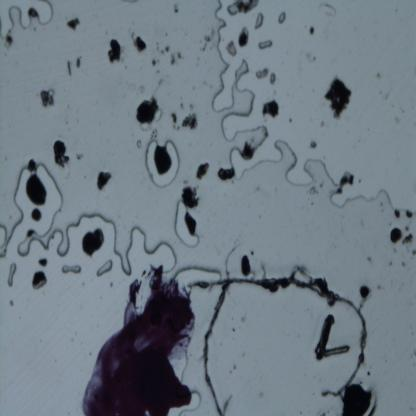Air bubble: (2, 168, 181, 283), (230, 139, 394, 214), (209, 1, 268, 158), (0, 1, 55, 38), (148, 136, 182, 190), (175, 203, 202, 249), (175, 266, 220, 290), (166, 389, 200, 416), (94, 258, 114, 278), (5, 261, 18, 289), (61, 264, 82, 276), (254, 12, 265, 30), (257, 38, 273, 50), (255, 68, 270, 80), (278, 11, 286, 25), (270, 73, 276, 84)
Background material: (315, 314, 352, 361), (324, 74, 352, 120), (341, 383, 377, 416), (50, 137, 75, 170), (26, 175, 50, 206), (136, 96, 159, 126), (81, 229, 105, 256), (228, 0, 257, 16), (336, 172, 355, 196), (180, 184, 199, 207), (108, 35, 122, 66), (260, 99, 280, 118), (183, 212, 198, 237), (237, 254, 252, 278), (39, 86, 55, 108), (96, 170, 112, 192), (180, 113, 199, 131), (31, 271, 48, 290), (318, 0, 336, 17), (196, 160, 210, 180), (389, 228, 404, 244), (218, 166, 235, 180), (199, 33, 212, 51), (66, 16, 80, 32), (136, 35, 148, 53), (238, 28, 249, 47), (4, 32, 14, 50), (27, 157, 38, 173), (360, 284, 370, 301), (302, 50, 316, 62), (37, 256, 49, 268), (171, 109, 179, 127), (31, 208, 42, 220), (402, 234, 414, 245), (148, 126, 158, 139), (176, 48, 186, 61), (74, 150, 84, 162), (66, 60, 72, 77), (172, 4, 183, 13), (394, 208, 402, 220), (178, 99, 185, 112), (308, 137, 317, 147), (406, 209, 414, 220), (136, 136, 142, 150), (169, 52, 175, 66), (308, 25, 316, 35), (75, 59, 82, 70), (258, 388, 264, 399), (151, 57, 158, 65), (376, 69, 383, 77), (387, 260, 394, 268), (240, 314, 246, 323), (411, 248, 416, 258), (165, 45, 170, 53), (158, 78, 163, 86), (232, 364, 238, 370), (189, 102, 193, 110), (402, 262, 406, 270), (231, 327, 236, 332), (164, 31, 168, 37), (156, 40, 158, 51), (161, 50, 164, 56)
Cellulose filter fibre: (186, 277, 369, 396), (203, 284, 232, 415)
Fragment: (154, 146, 173, 175)
Pen: (74, 262, 191, 415)
